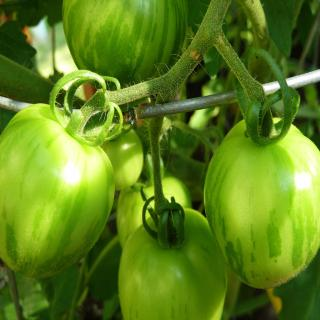tomato: (0, 100, 118, 279), (206, 101, 313, 293), (119, 200, 228, 320), (63, 0, 186, 98)
